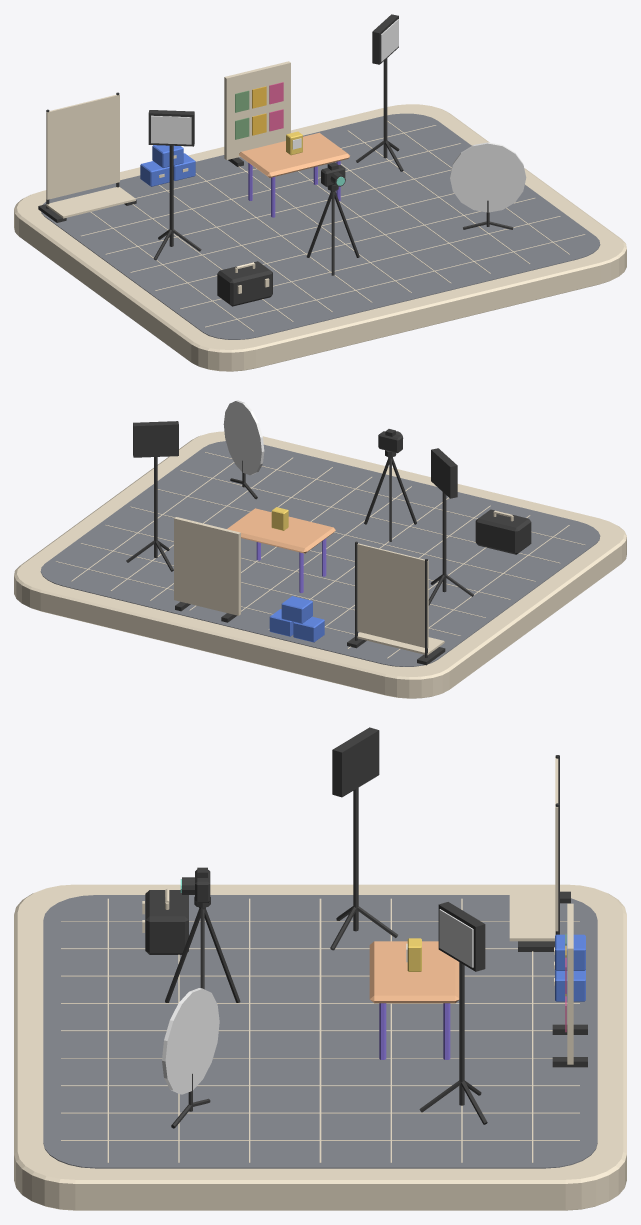
The picture shows the model from 3 angles, top to bottom: view 1: azimuth 30°, elevation 25°; view 2: azimuth 150°, elevation 25°; view 3: azimuth 270°, elevation 25°; orthographic projection. The views are drawn at different scales.
Visible parts, largest first — view 1: COM-02 Floor Surface, COM-01 Rounded Base Direct, Seamless backdrop, Reflector, Panel, Rounded table top, Case, Backdrop sweep, Diffuser, Light panel, Stacked case, Stacked case.002 (+3 smaller); view 2: COM-02 Floor Surface, COM-01 Rounded Base Direct, Seamless backdrop, Panel, Rounded table top, Reflector, Case, Light panel.001, Light panel, Stacked case.002, Backdrop sweep, Stacked case (+4 smaller); view 3: COM-02 Floor Surface, COM-01 Rounded Base Direct, Rounded table top, Reflector, Case, Backdrop sweep, Light panel, Diffuser.001, Light panel.001, Panel, Grout X.007, Stacked case.002 (+8 smaller).
Boxes of the visible parts, bbox=[...] form: COM-02 Floor Surface: bbox=[41, 113, 600, 339]; COM-01 Rounded Base Direct: bbox=[14, 104, 626, 371]; Seamless backdrop: bbox=[46, 94, 119, 199]; Reflector: bbox=[450, 142, 526, 212]; Panel: bbox=[224, 61, 290, 160]; Rounded table top: bbox=[239, 132, 349, 177]; Case: bbox=[217, 261, 272, 306]; Backdrop sweep: bbox=[46, 187, 135, 218]; Diffuser: bbox=[151, 115, 191, 144]; Light panel: bbox=[148, 110, 194, 146]; Stacked case: bbox=[140, 161, 169, 186]; Stacked case.002: bbox=[152, 145, 183, 167]; COM-02 Floor Surface: bbox=[40, 441, 600, 666]; COM-01 Rounded Base Direct: bbox=[14, 431, 626, 698]; Seamless backdrop: bbox=[357, 543, 428, 648]; Panel: bbox=[174, 517, 240, 615]; Rounded table top: bbox=[227, 508, 335, 553]; Reflector: bbox=[223, 400, 264, 475]; Case: bbox=[475, 509, 531, 554]; Light panel.001: bbox=[133, 421, 178, 457]; Light panel: bbox=[431, 448, 457, 498]; Stacked case.002: bbox=[281, 596, 312, 623]; Backdrop sweep: bbox=[357, 632, 444, 655]; Stacked case: bbox=[293, 616, 324, 642]; COM-02 Floor Surface: bbox=[43, 895, 597, 1168]; COM-01 Rounded Base Direct: bbox=[14, 884, 626, 1210]; Rounded table top: bbox=[369, 941, 459, 1003]; Reflector: bbox=[162, 988, 219, 1094]; Case: bbox=[145, 890, 188, 954]; Backdrop sweep: bbox=[509, 888, 555, 941]; Light panel: bbox=[332, 727, 379, 797]; Diffuser.001: bbox=[439, 909, 473, 967]; Light panel.001: bbox=[438, 902, 485, 971]; Panel: bbox=[567, 903, 573, 1064]; Grout X.007: bbox=[61, 1112, 579, 1113]; Stacked case.002: bbox=[555, 934, 585, 970].
Bounding box in the file's own units: 6 × 2.14 × 5.2.
1 material, 1 textured.
